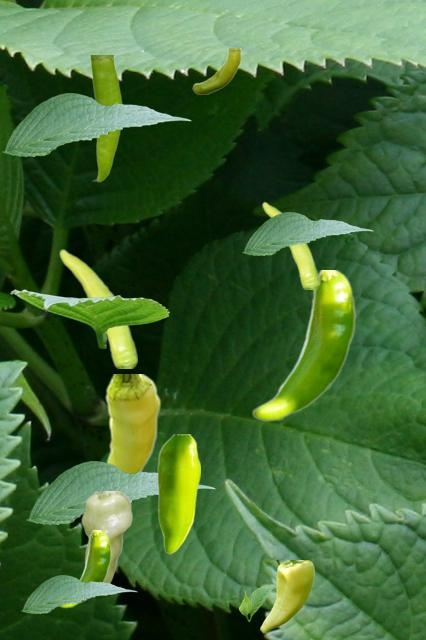green_chili: (251, 270, 355, 421), (59, 248, 136, 367), (103, 374, 160, 472), (157, 434, 199, 553), (262, 201, 318, 288), (81, 491, 131, 582), (89, 55, 121, 181), (59, 530, 110, 607), (260, 560, 313, 632), (192, 48, 241, 93)
